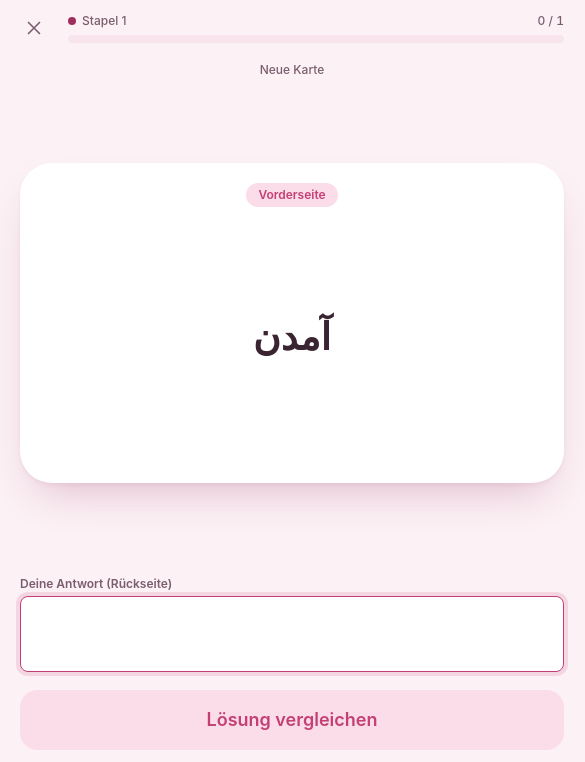
Test: Study session › shows exactly two answer buttons after flipping: Falsch and Richtig
This screenshot has width=585, height=762.
Click the button with test id "flashcard" at point(292, 323), box [20,163,564,483]
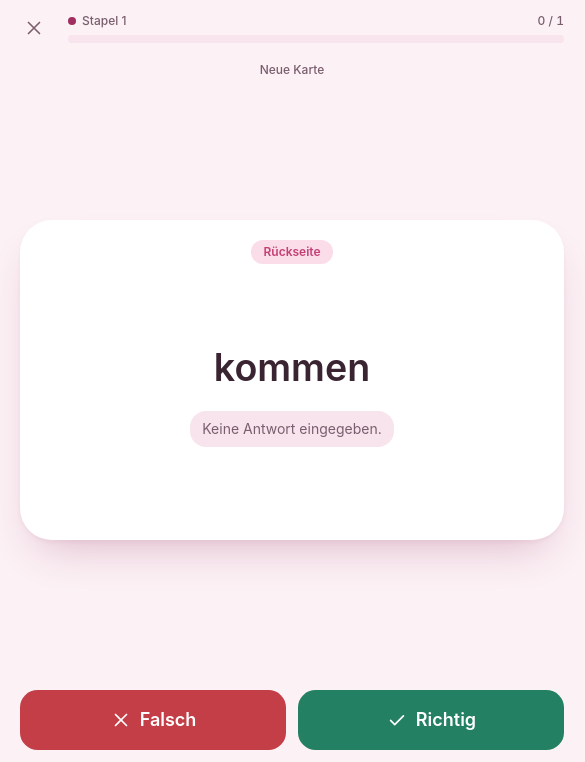
expect the buttons read "Falsch", "Richtig", in this order: met, box [20,690,286,750]; [298,690,564,750]
